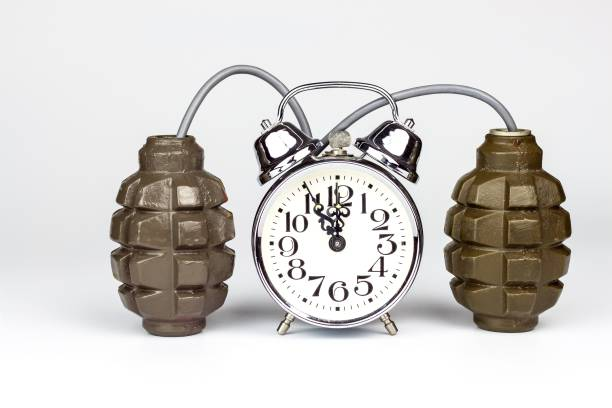e1: (441, 123, 574, 337), (107, 132, 239, 342)
